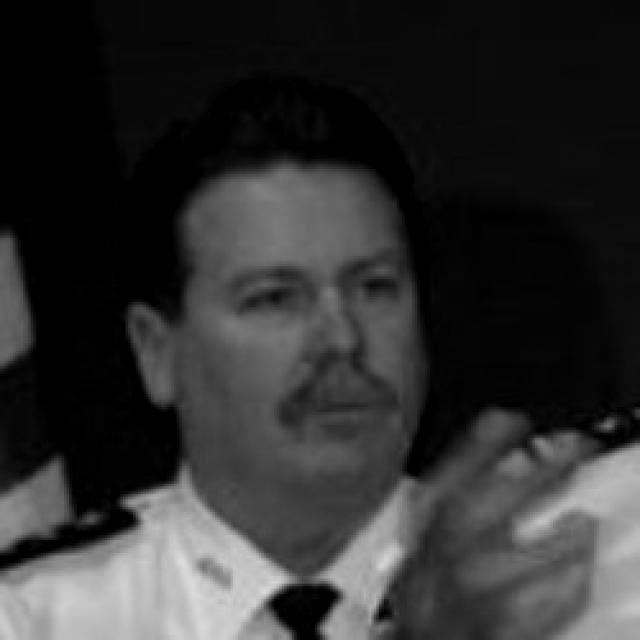real: (134, 106, 446, 518), (230, 265, 415, 326)
